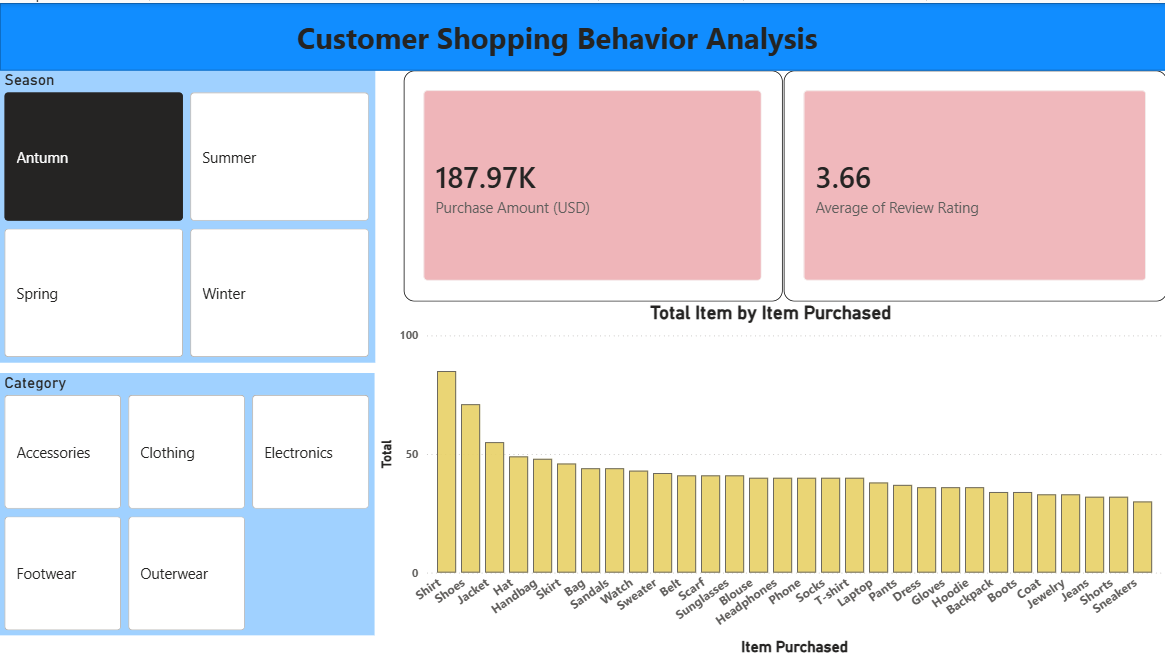

This screenshot's page, from the dashboard's own definition file:
{"tool":"powerbi","page":{"name":"Page 1","canvas":[1280,720],"ordinal":0},"visuals":[{"type":"cardVisual","fields":{"Data":["Avg(item.Review Rating)"]},"box":[859.7,74.2,420.6,253.6],"z":0},{"type":"cardVisual","title":"Purchase Amount (USD)","fields":{"Data":["Sum(item.Purchase Amount (USD))"]},"box":[443.8,74.2,415.9,253.6],"z":1000},{"type":"columnChart","title":"Total Item by Item Purchased","fields":{"Category":["item.Item Purchased"],"Y":["CountNonNull(item.Item Purchased)"]},"box":[411.3,327.8,869,392.8],"z":2000},{"type":"advancedSlicerVisual","fields":{"Values":["item.Season"]},"box":[0,74.2,411.3,332.4],"z":3000},{"type":"advancedSlicerVisual","fields":{"Values":["item.Category"]},"box":[0,406.7,411.3,287.6],"z":4000},{"type":"shape","box":[0,0,1280.3,74.2],"z":5000},{"type":"textbox","box":[321.6,10.8,660.3,52.6],"z":6000}]}

Visuals, with their boxes in screenshot pixels (x1, y1, x2, y2), scaled from the page's 1280x720 canvas onto the 1165x658 screenshot:
cardVisual - Avg(item.Review Rating): x1=782, y1=68, x2=1164, y2=300
"Purchase Amount (USD)" cardVisual: x1=404, y1=68, x2=782, y2=300
"Total Item by Item Purchased" columnChart: x1=374, y1=300, x2=1164, y2=657
advancedSlicerVisual - item.Season: x1=0, y1=68, x2=374, y2=372
advancedSlicerVisual - item.Category: x1=0, y1=372, x2=374, y2=635
shape: x1=0, y1=0, x2=1164, y2=68
textbox: x1=293, y1=10, x2=894, y2=58
